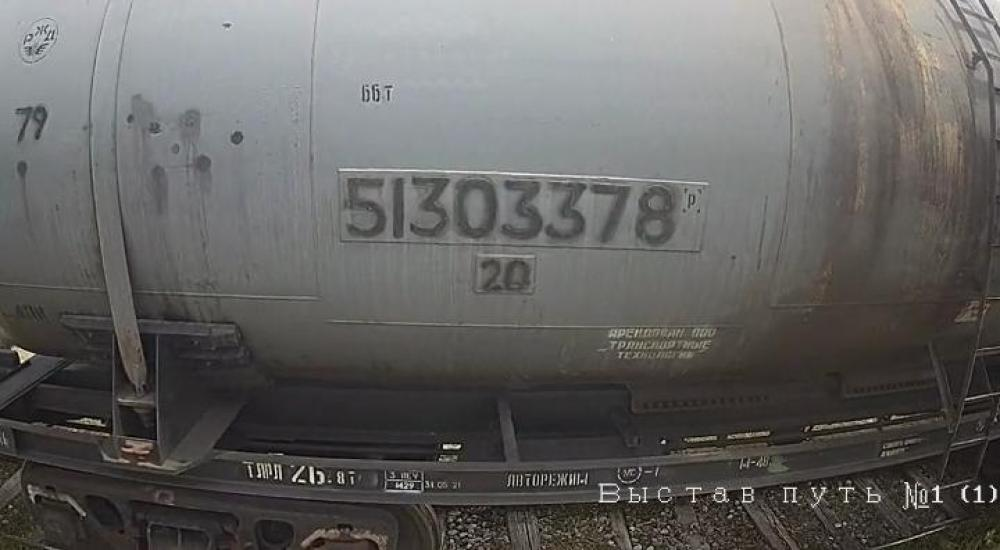Wagon-number: (334, 161, 682, 253)
